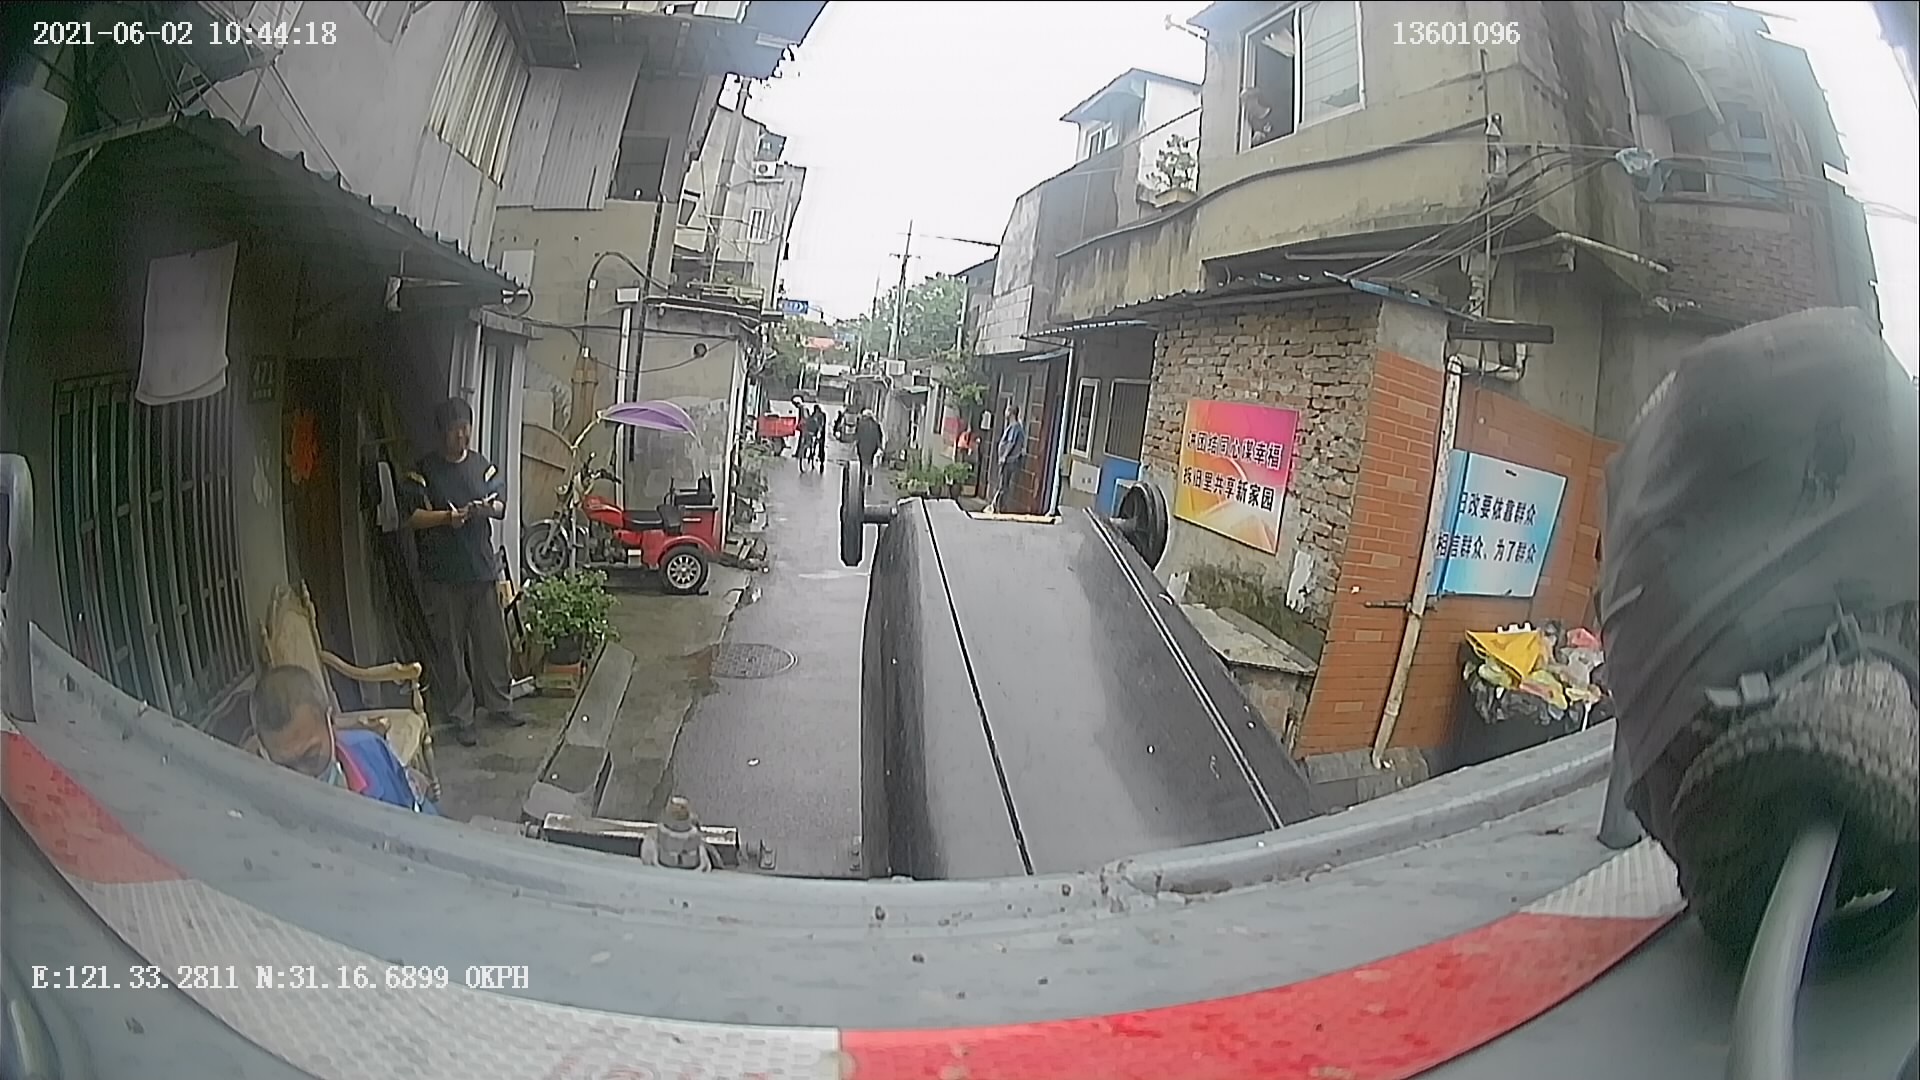Dry_garbage: (795, 444, 1291, 977)
